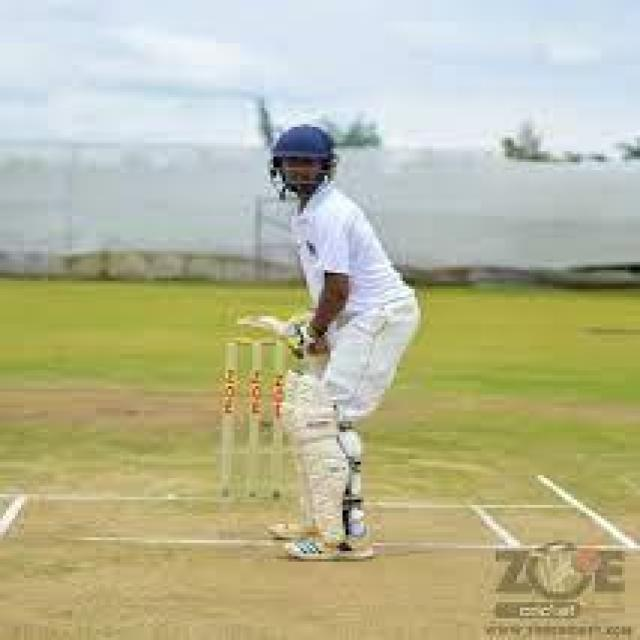bat: (234, 311, 294, 336)
toe: (233, 314, 250, 333)
